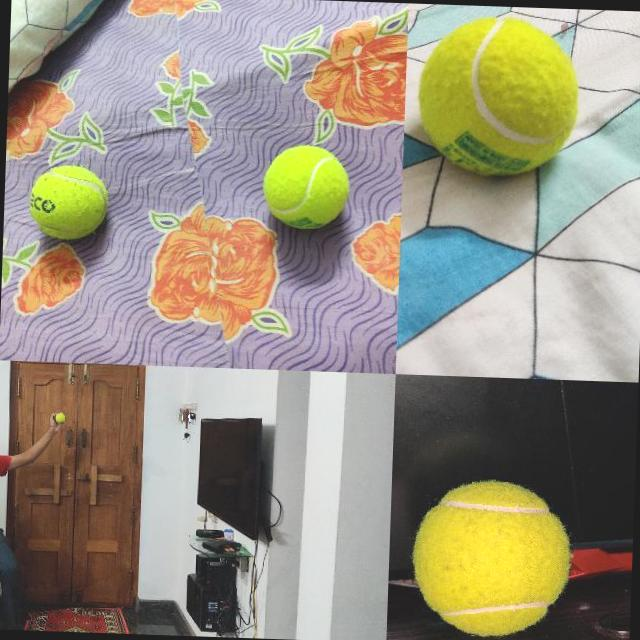Tennis Ball: (410, 474, 576, 640), (416, 13, 582, 176), (262, 143, 351, 231), (28, 164, 110, 242), (56, 412, 66, 422)
